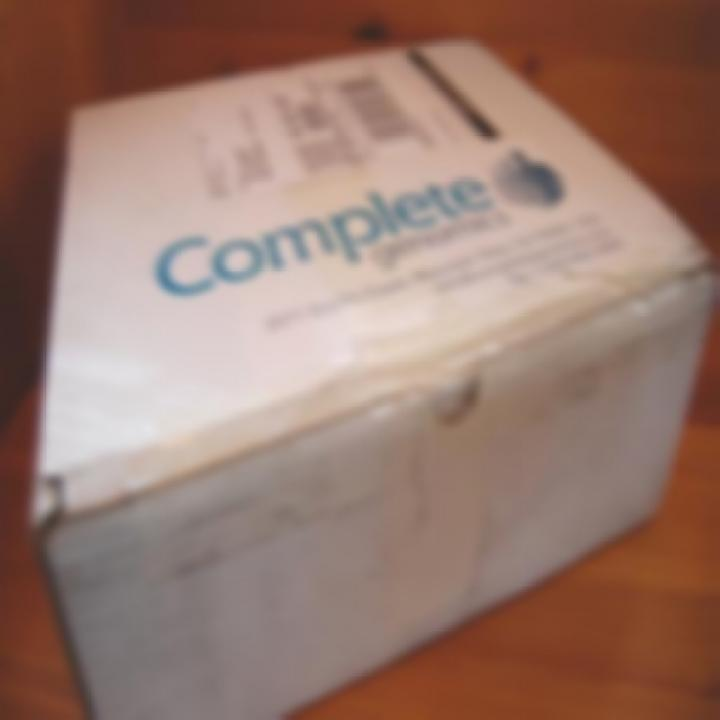box: (48, 69, 714, 720)
